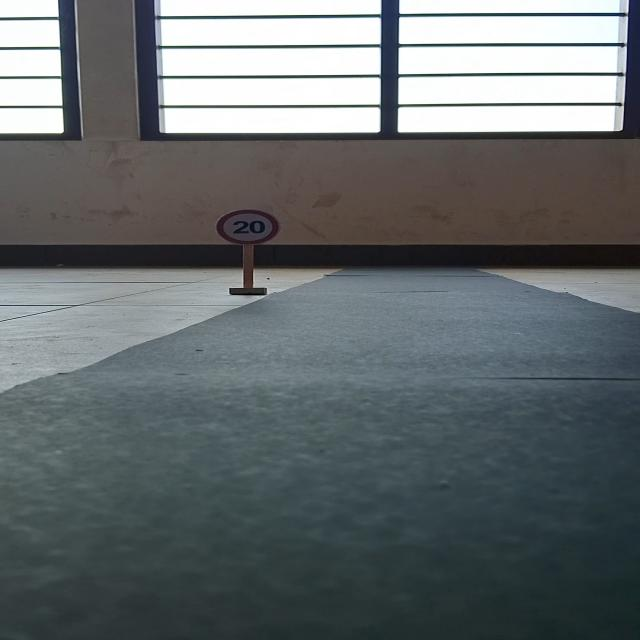Speed20: (212, 204, 286, 249)
